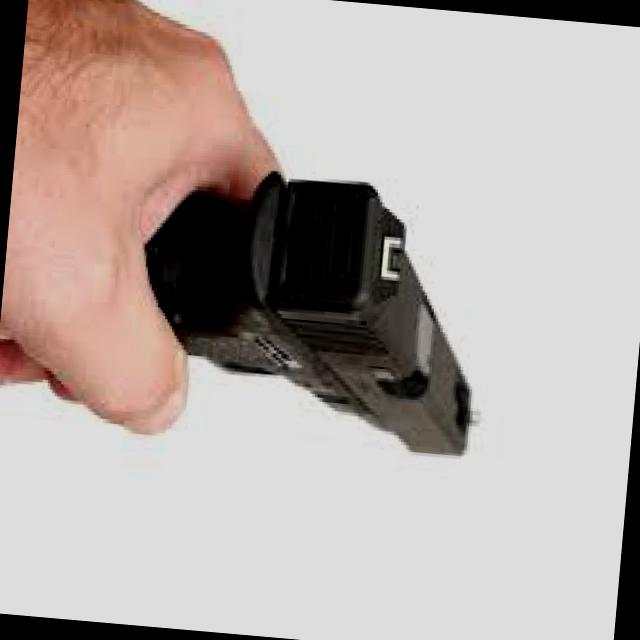handgun: (135, 148, 534, 460)
